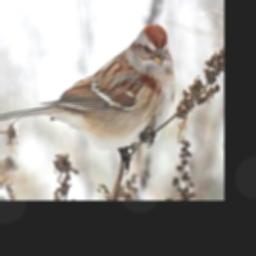Sparrow: (0, 22, 177, 171)
